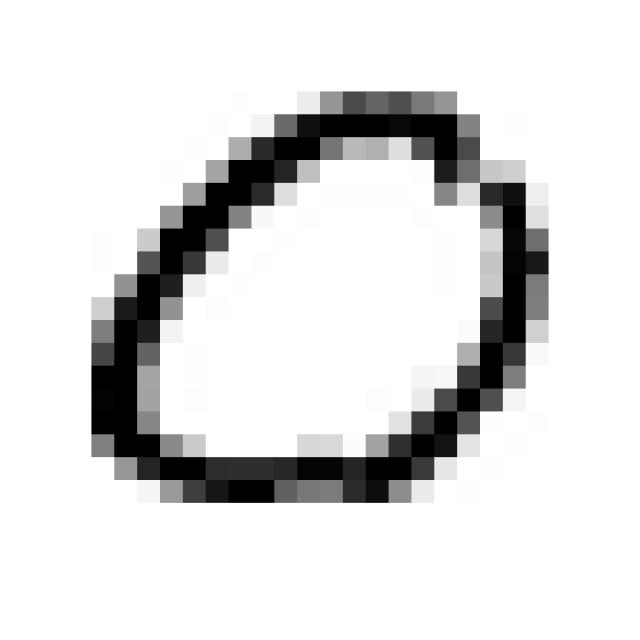5 -five-: (71, 66, 561, 518)
